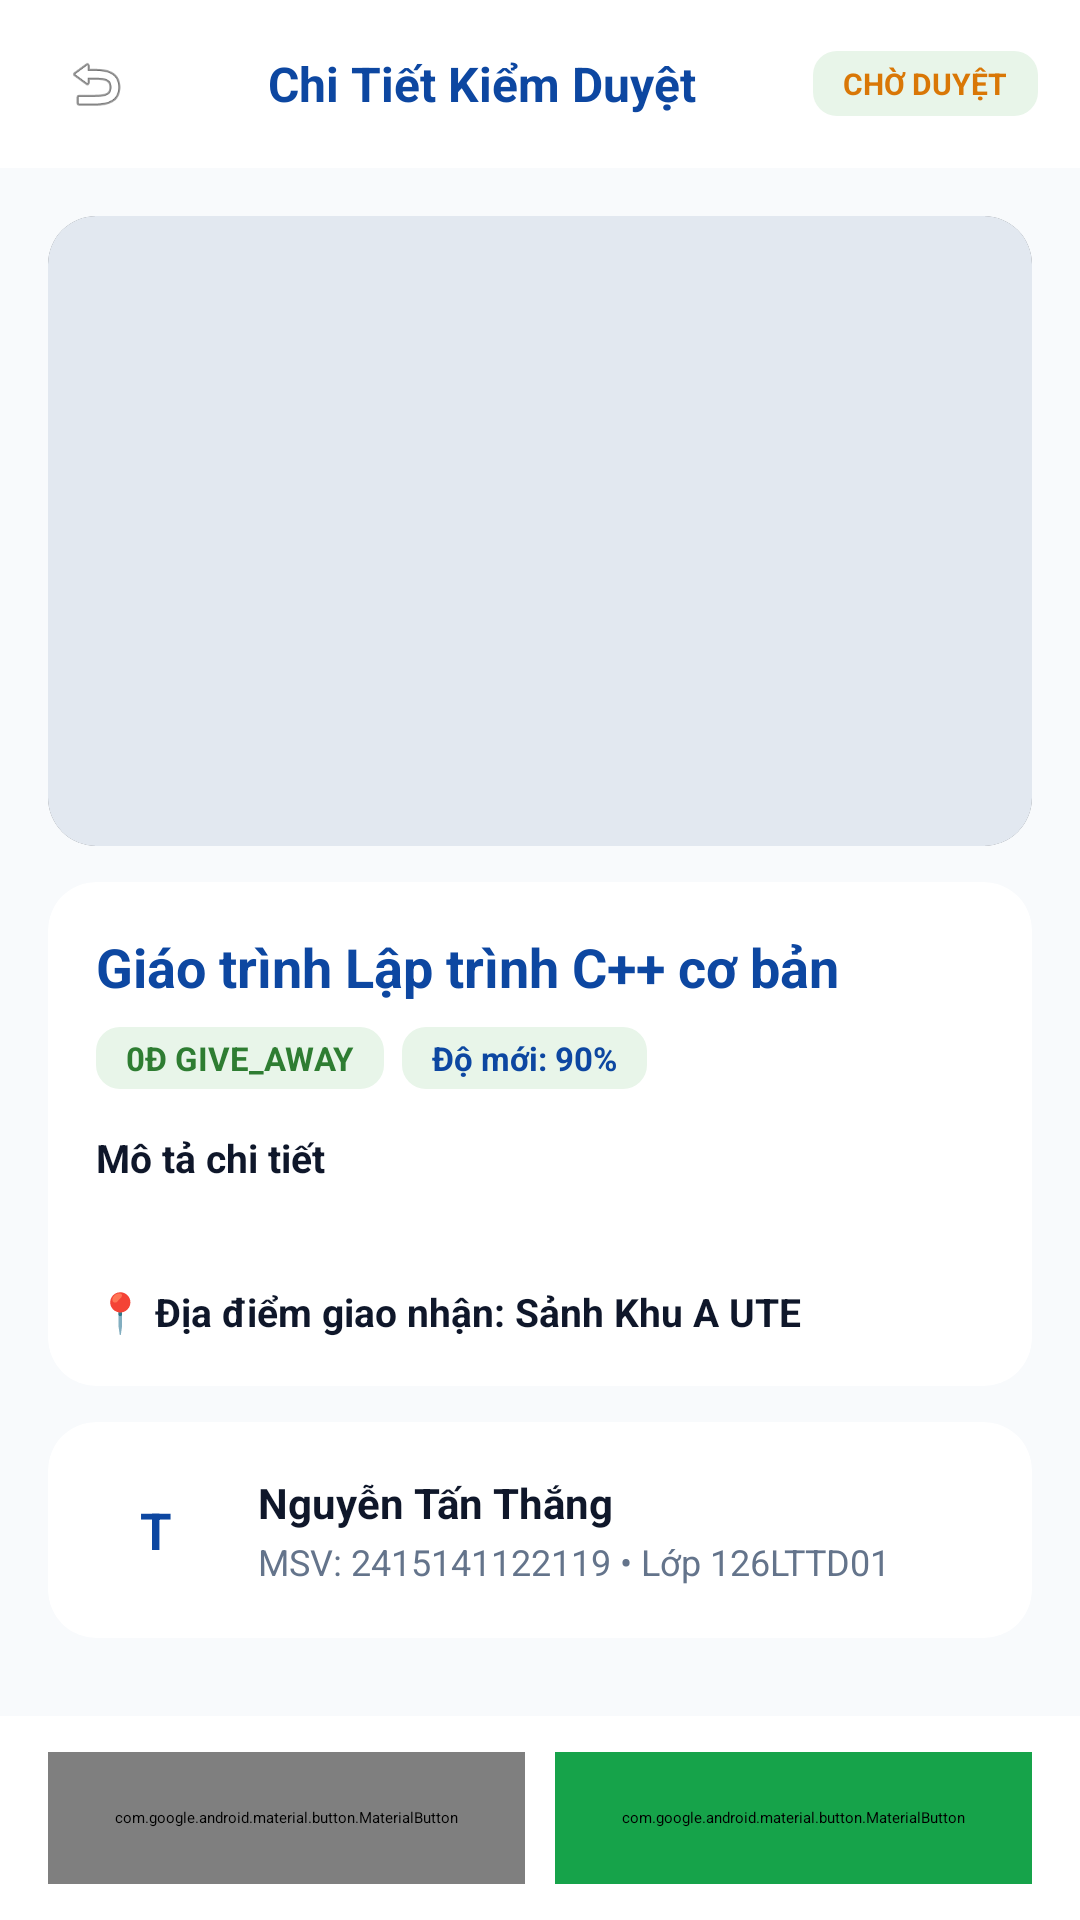

Where to tap for icons on this 1080px x 1920px app screen, as (x,y):
Quay lại: (97,84)
